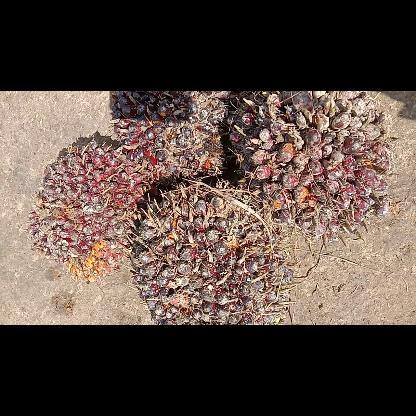Kurang masak: (227, 90, 399, 238), (134, 178, 298, 322), (26, 136, 154, 282), (111, 91, 239, 177)
